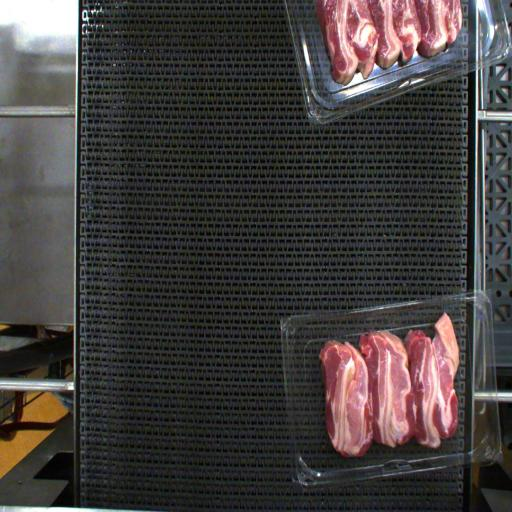twisted-meat: (434, 304, 460, 436)
